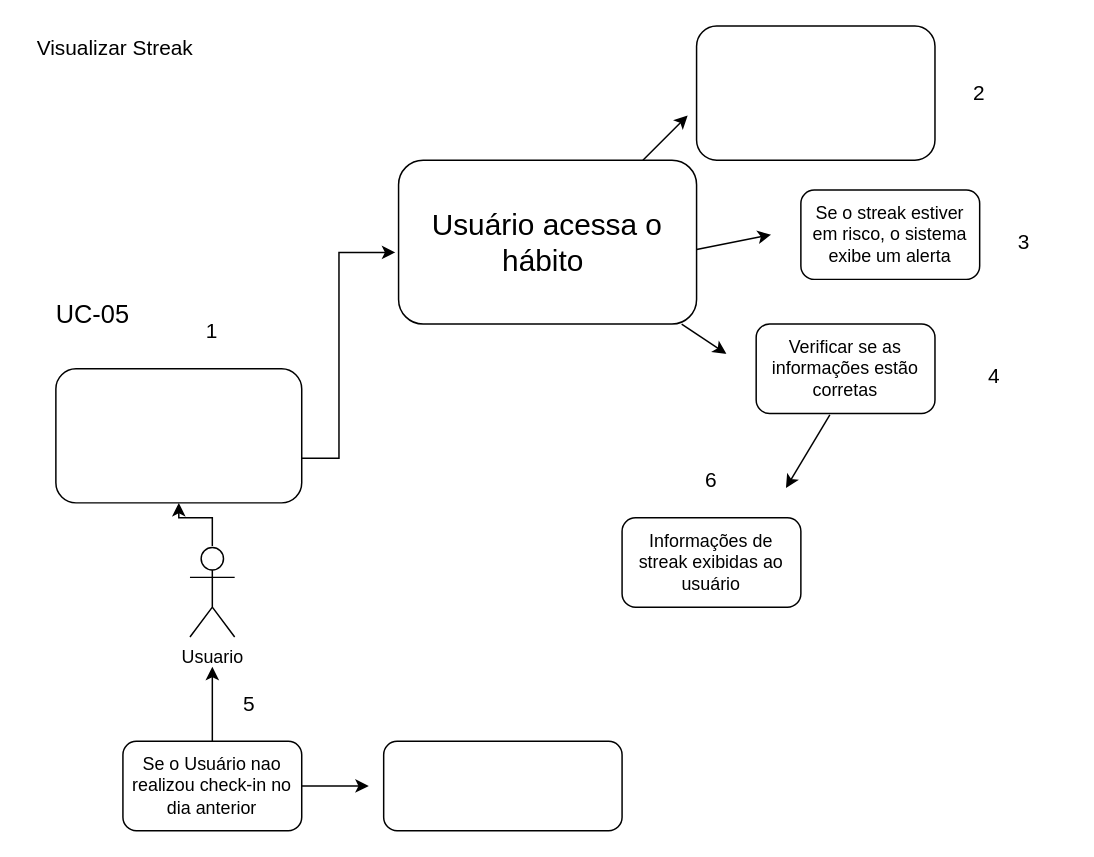
Some shapes in this 1094 by 857 pixel diagram are drawn without their labels. Each missing label, with the centre of its shape:
"o sistema exibirar o streak zerado e o recorde anterior como historico" goes at point 502,785.
"Pré-condição: Usuário autenticado e com ao menos um check-in registrado" goes at point 178,435.
"Sistema exibe o contador de dias consecutivos atual e o melhor recorde histórico" goes at point 815,92.
